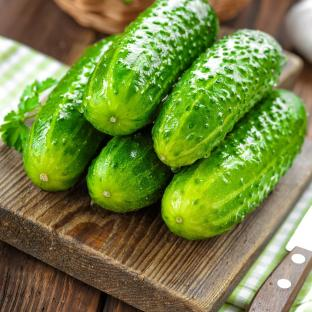Cucumber: (162, 90, 306, 239), (82, 0, 218, 135), (153, 30, 285, 167), (24, 37, 115, 190), (87, 129, 171, 212)
